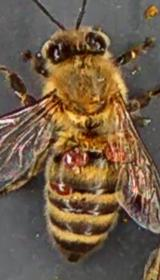varroa_mite: (56, 140, 97, 166), (100, 136, 127, 163), (48, 173, 70, 197)
